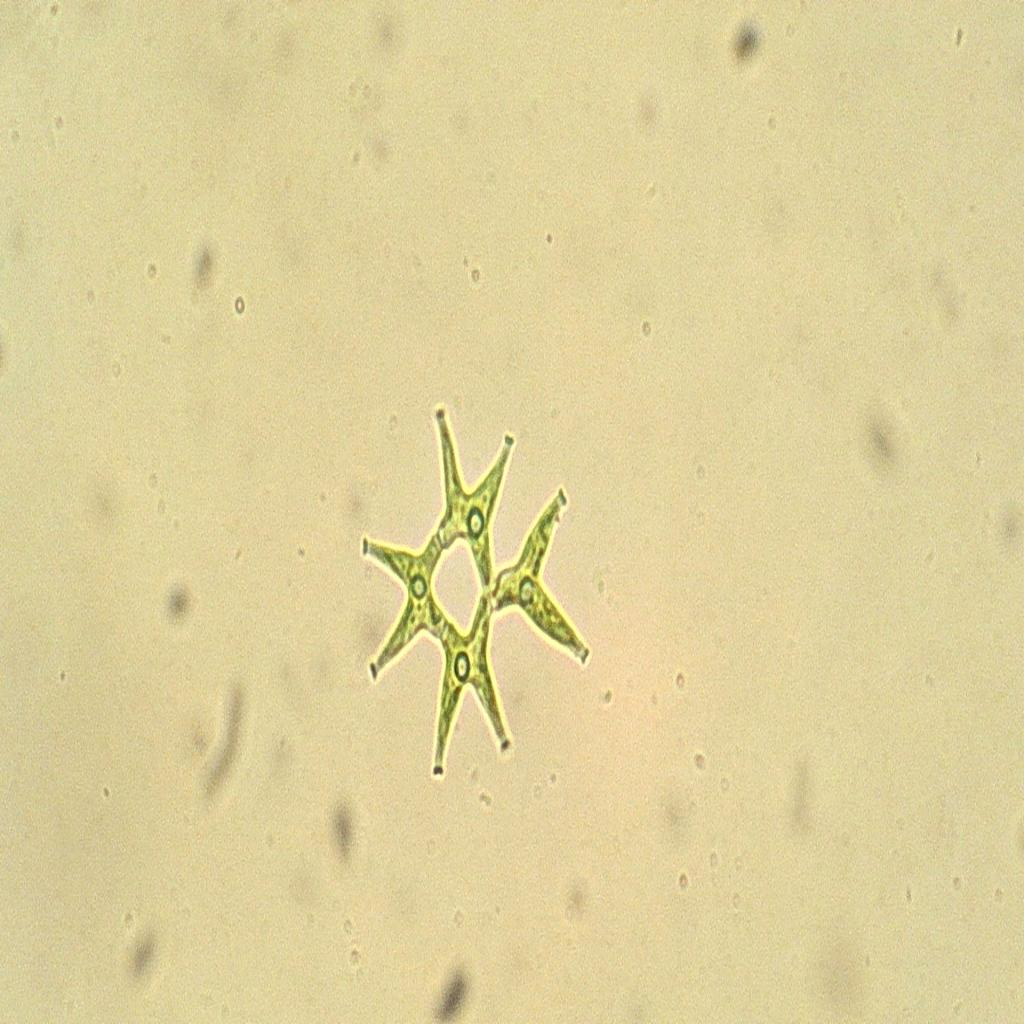Pediastrum_75FI: (335, 400, 602, 800)
